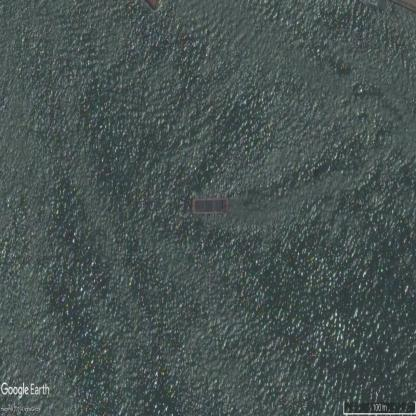ship: (192, 197, 228, 214)
